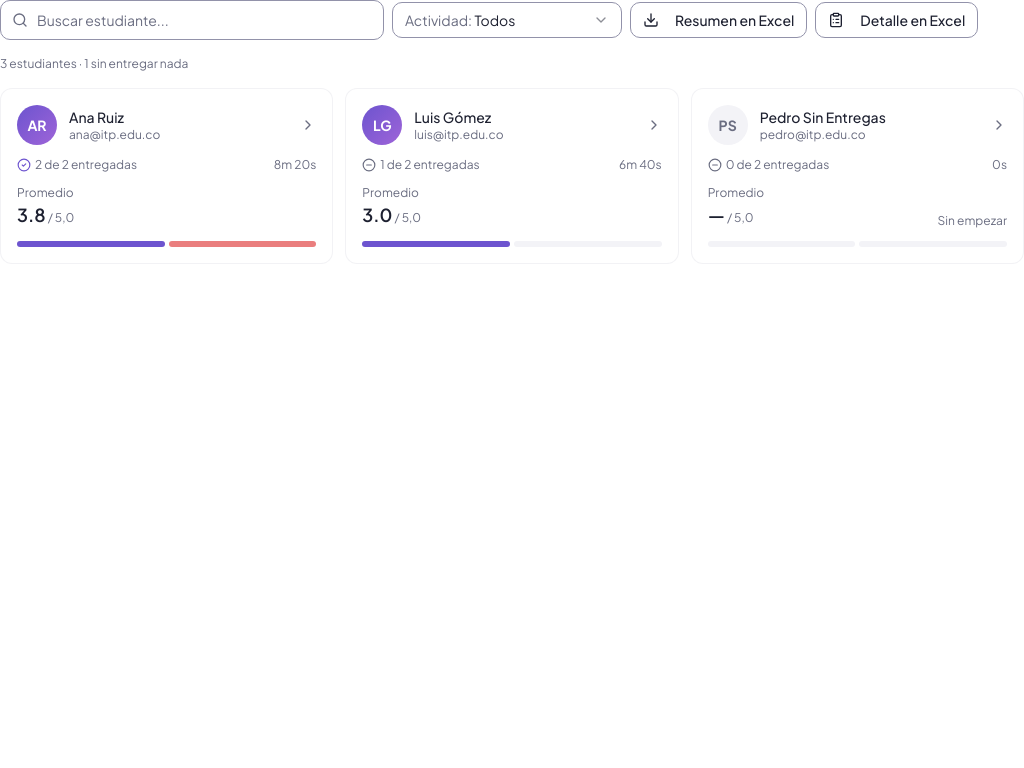
Scenario: Cuadrícula de estudiantes del curso › al filtrar por una actividad muestra SOLO a quienes la entregaron
Click the button with aria-label "Filtrar por actividad" at {"x": 507, "y": 20}, box [392,2,622,38]
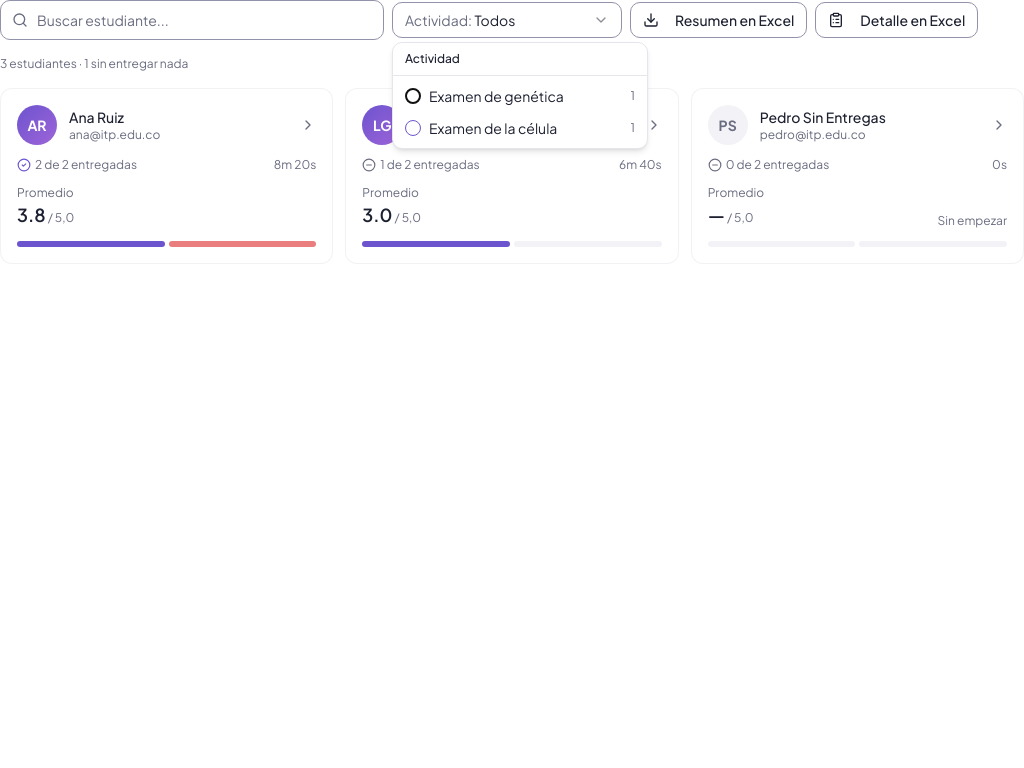
Click the checkbox named "Examen de genética" next to "Examen de genética" at {"x": 413, "y": 96}, box [405,88,421,104]
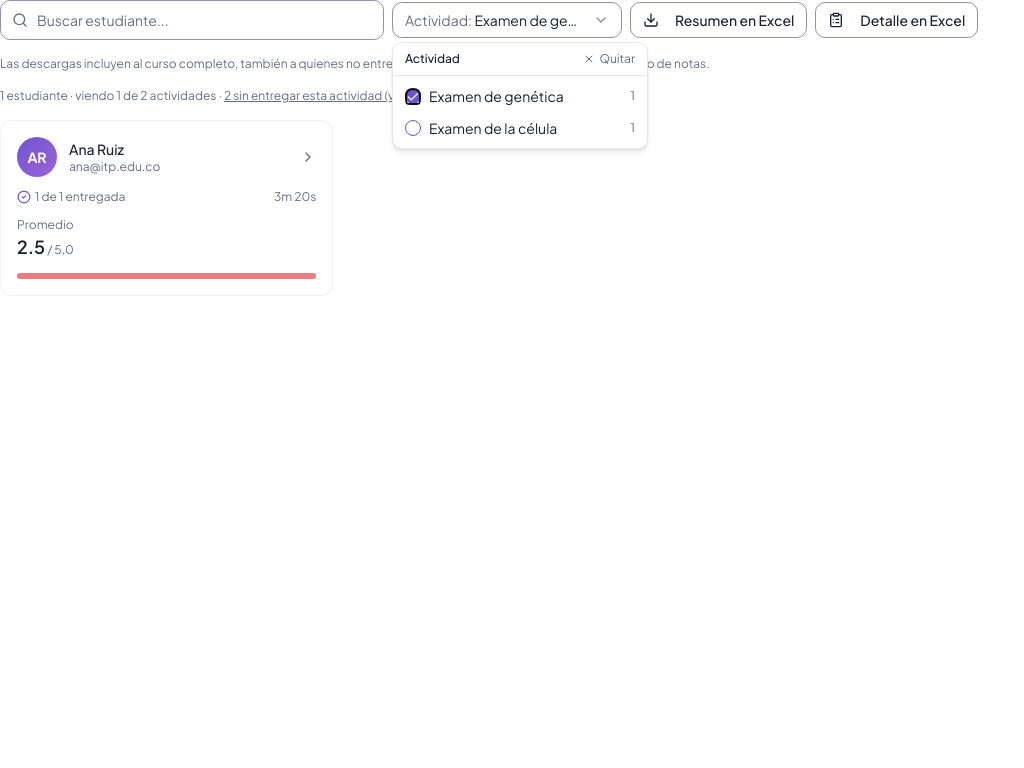
Expected: the button "Luis Gómez" is not shown
Result: the button "Pedro Sin Entregas" is gone
Result: the text "1 estudiante" is shown at [0,88,68,103]
